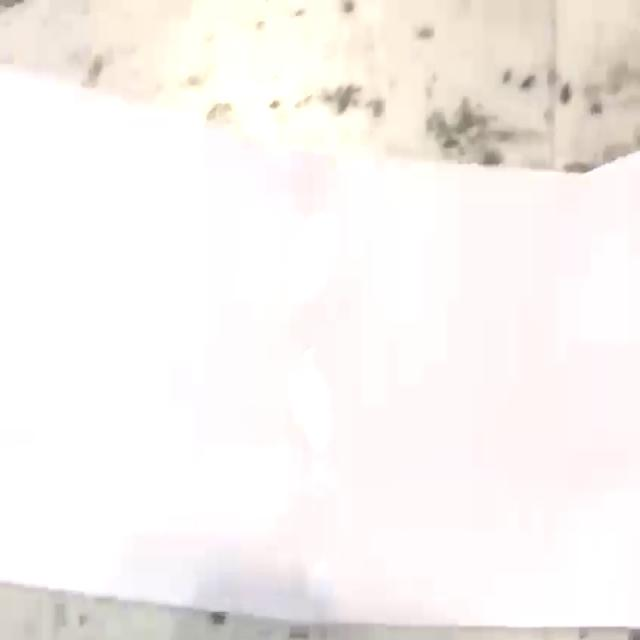road: (0, 73, 640, 627)
